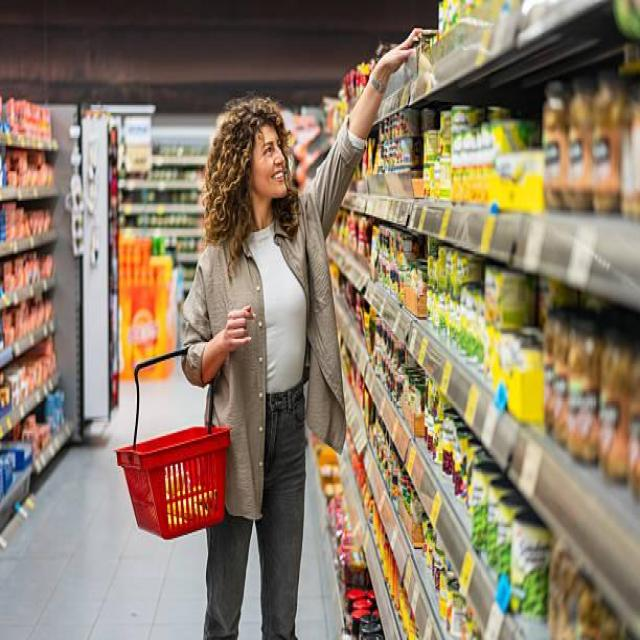hands: (349, 28, 421, 135), (201, 306, 253, 383)
person: (183, 39, 409, 638)
